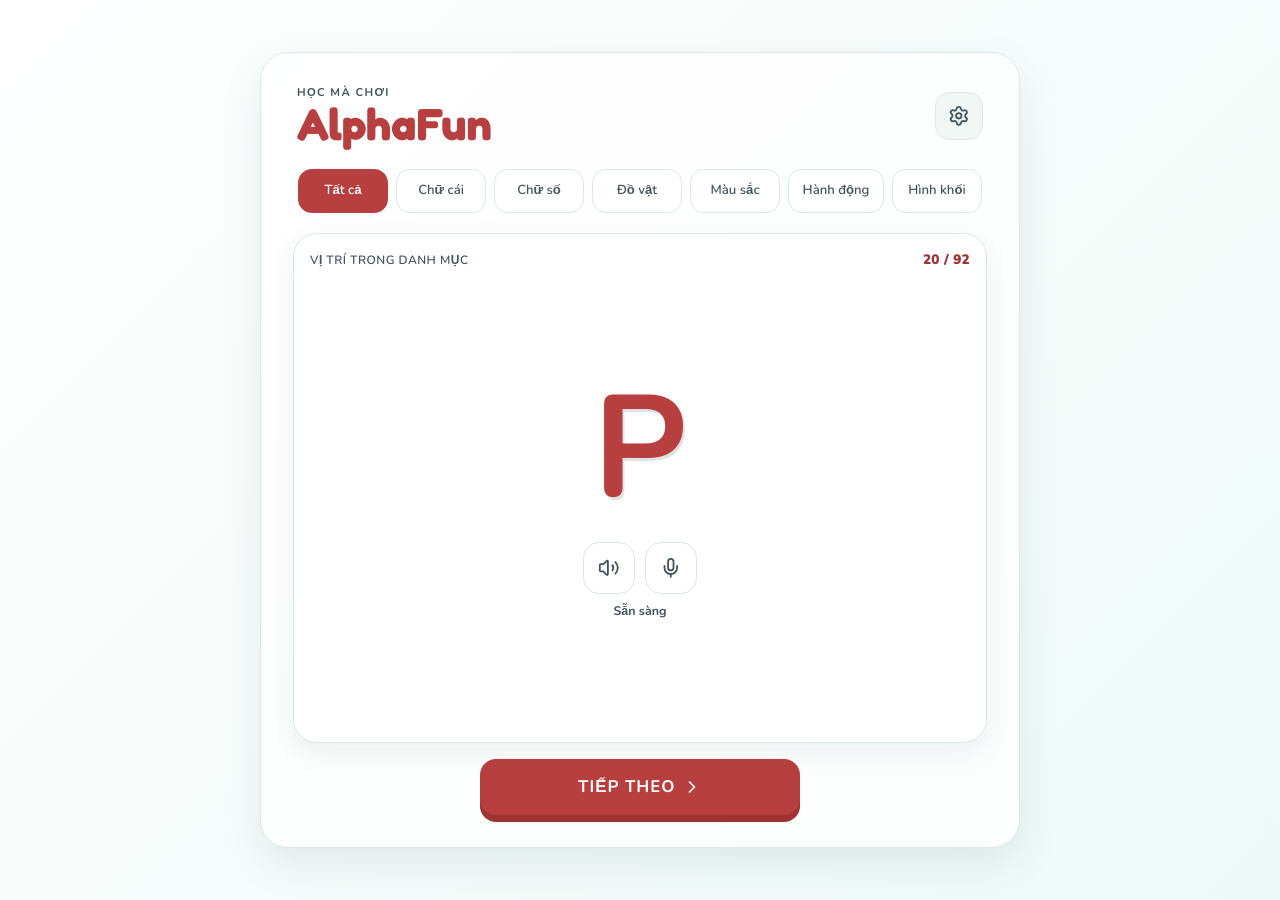
Test: App Component › updates the progress total when a category is selected
Click the button "Chữ cái" at (441, 191), box [396,169,486,213]
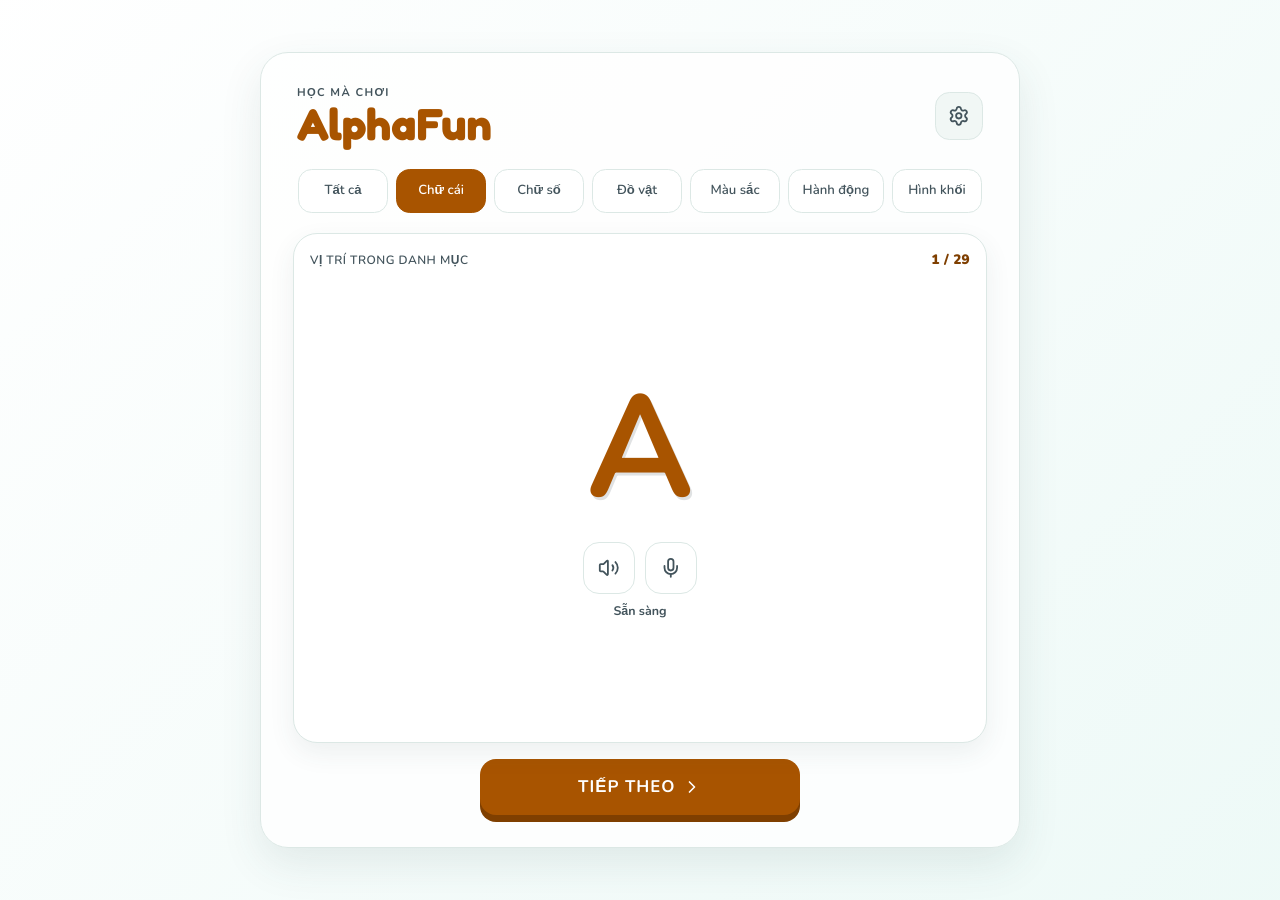
Expected: the text with test id "progress" shows "/ 29", [931,250,970,269]
